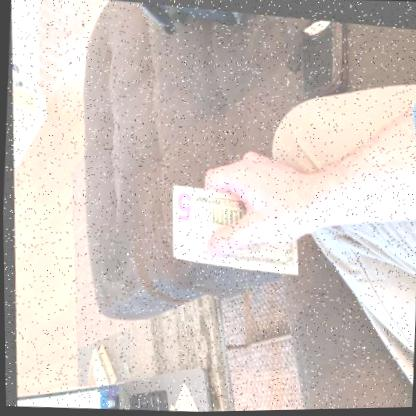five-back: (165, 178, 299, 274)
